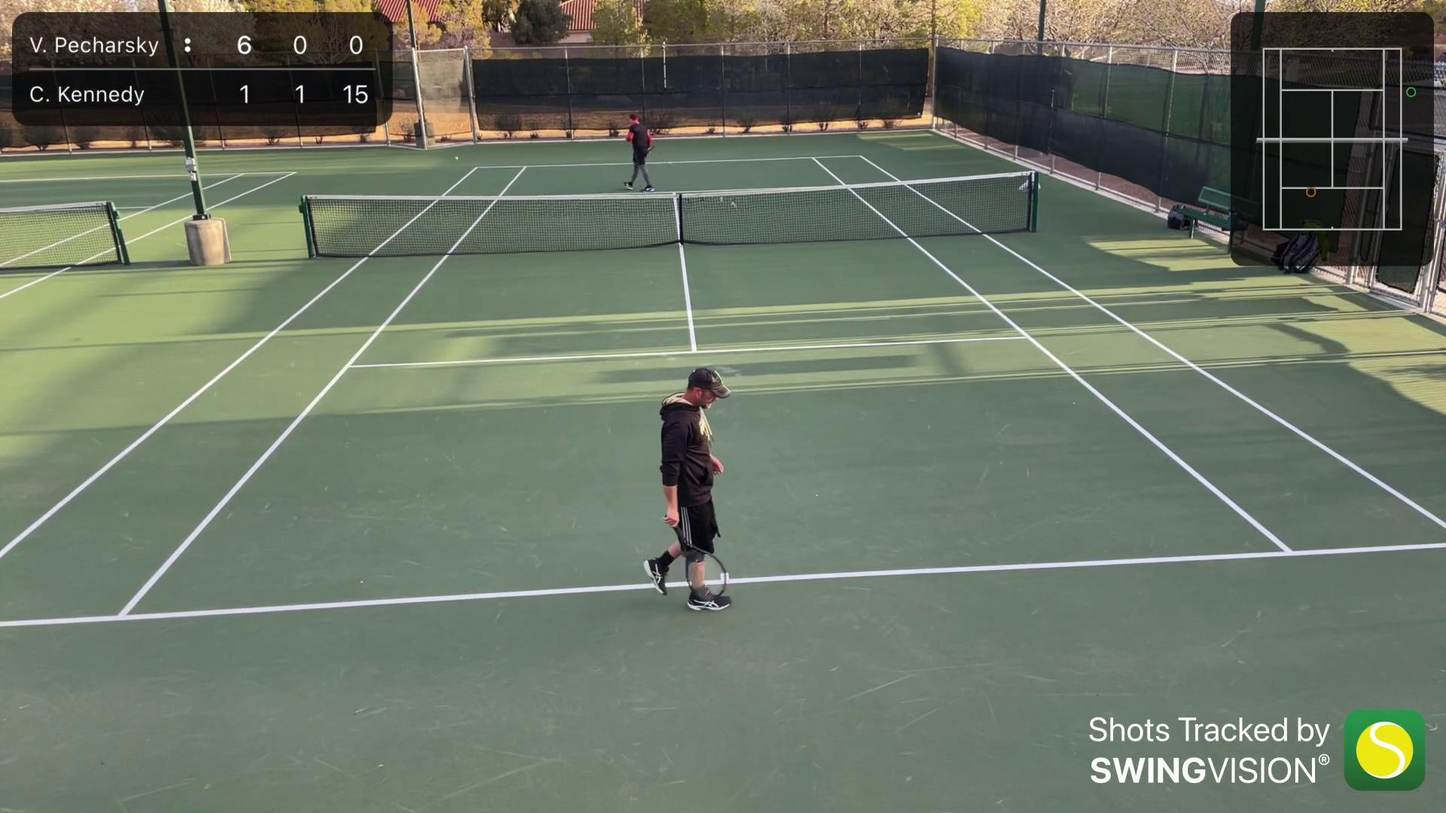ball: (453, 155, 459, 161), (915, 112, 922, 117)
